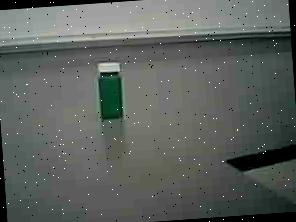Bottle C: (83, 53, 136, 132)
